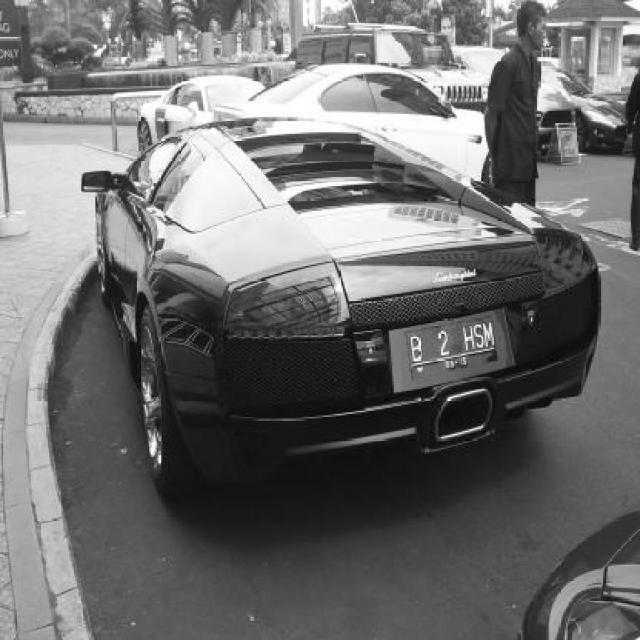2: (434, 324, 456, 364)
B: (405, 336, 429, 360)
H: (458, 324, 475, 352)
M: (483, 320, 494, 350)
Plate: (404, 314, 497, 380)
S: (473, 323, 485, 352)
